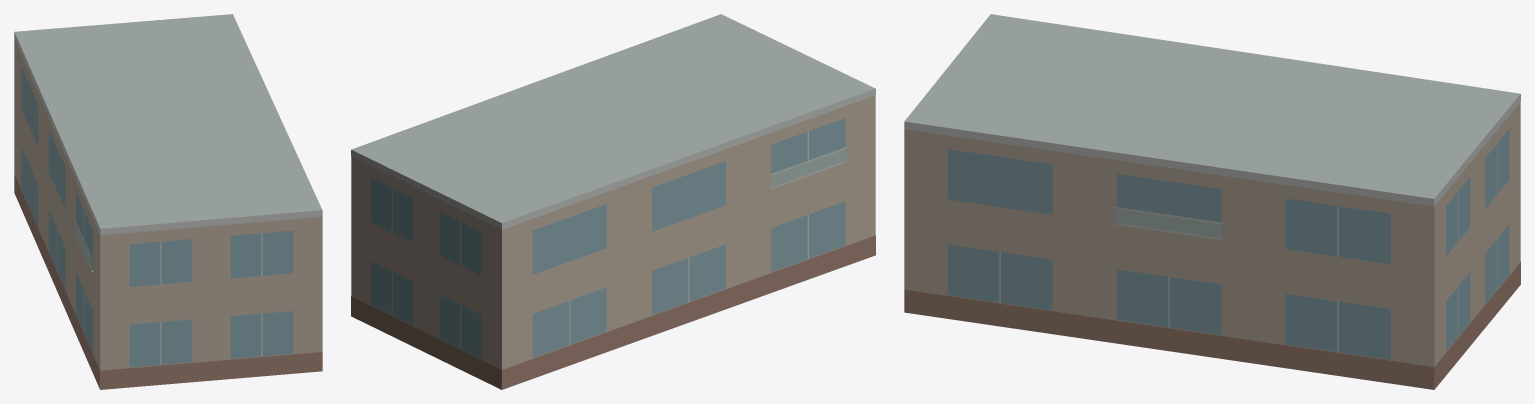
File: survey-upis-32950227.glb
The picture shows the model from 3 angles, left to right: view 1: azimuth 30°, elevation 25°; view 2: azimuth 150°, elevation 25°; view 3: azimuth 270°, elevation 25°; orthographic projection. The views are drawn at different scales.
Parts seen in each view (by area): view 1: survey-upis-32950227.tmp; view 2: survey-upis-32950227.tmp; view 3: survey-upis-32950227.tmp.
Part boxes in pixels (left/top/right/bottom): survey-upis-32950227.tmp: left=14, top=14, right=322, bottom=389; survey-upis-32950227.tmp: left=351, top=14, right=875, bottom=389; survey-upis-32950227.tmp: left=904, top=14, right=1520, bottom=389.
Bounding box in the file's own units: 12.69 × 6.1 × 17.87.
